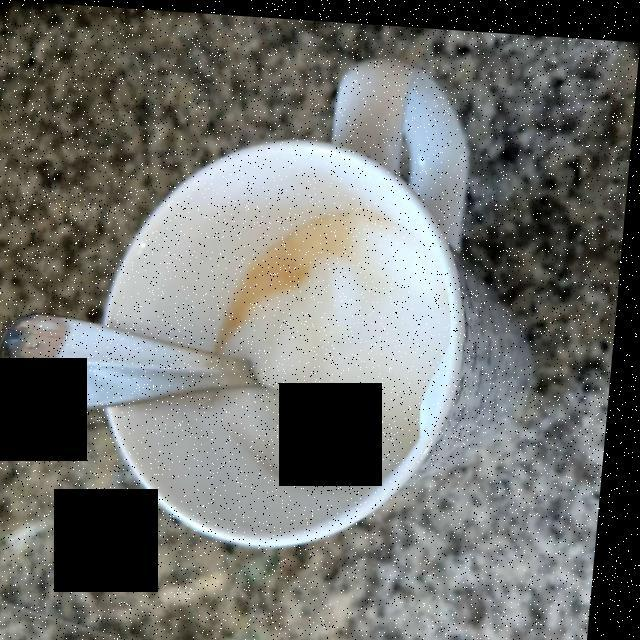cappuccino: (224, 211, 450, 485)
